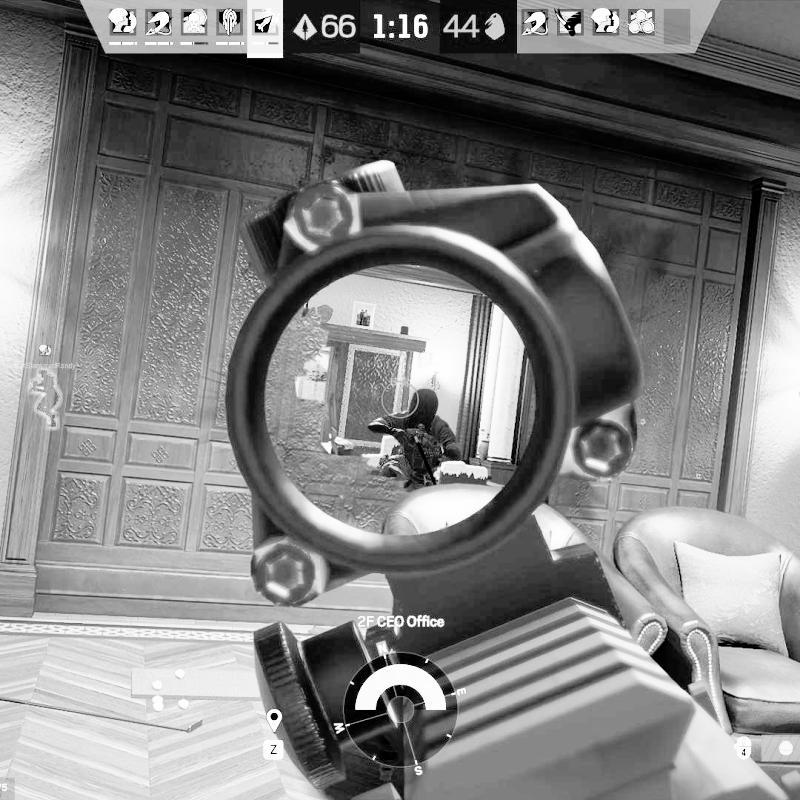Character: (368, 386, 463, 488)
Friend_label: (386, 351, 463, 386)
Head: (408, 387, 440, 430)
